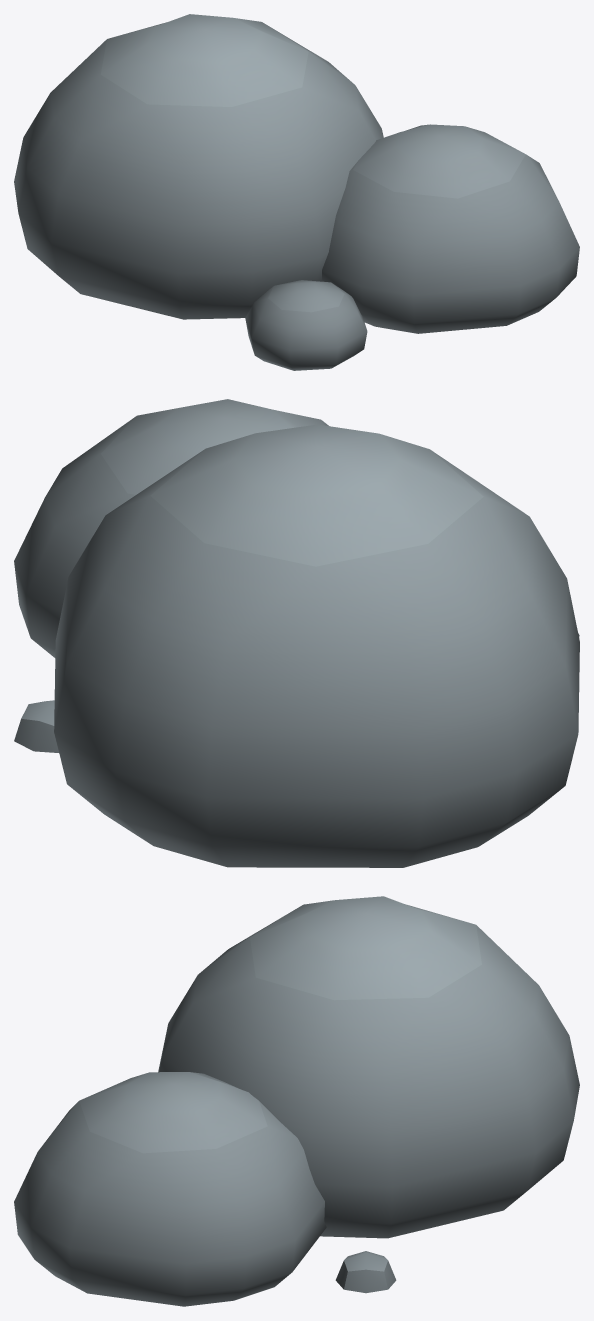
Rendered from Rock_5_F_Color1.fbx.
The picture shows the model from 3 angles, top to bottom: view 1: azimuth 30°, elevation 25°; view 2: azimuth 150°, elevation 25°; view 3: azimuth 270°, elevation 25°; orthographic projection. The views are drawn at different scales.
Parts seen in each view (by area): view 1: Rock_5_F_Color1; view 2: Rock_5_F_Color1; view 3: Rock_5_F_Color1.
Part boxes in pixels (x1,y1,x2,y2): Rock_5_F_Color1: (14,14,579,370); Rock_5_F_Color1: (14,399,579,867); Rock_5_F_Color1: (14,896,579,1306).
Size of the model in its own units: 1.76 by 0.9247 by 1.76.
